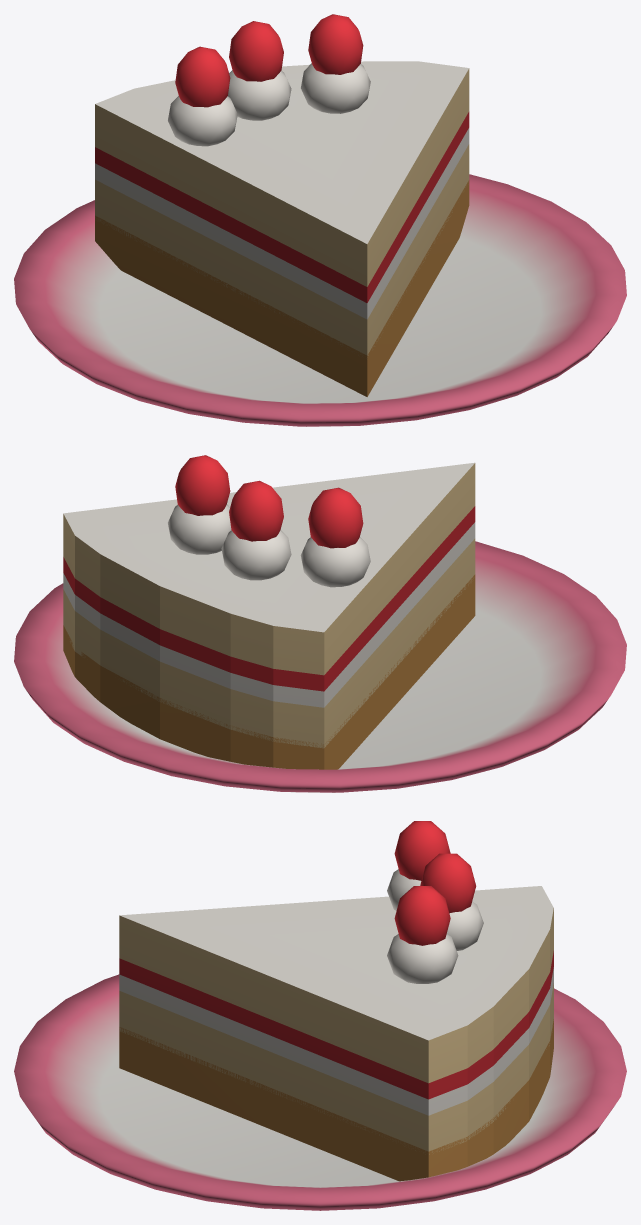
Rendered from item_dish_shortcake.glb.
3 views of the same model, one above another, from view 1: azimuth 30°, elevation 25°; view 2: azimuth 150°, elevation 25°; view 3: azimuth 270°, elevation 25° (orthographic).
Visible parts, largest first — view 1: item_dish_shortcake_main, item_dish_shortcake_gloss; view 2: item_dish_shortcake_main, item_dish_shortcake_gloss; view 3: item_dish_shortcake_main, item_dish_shortcake_gloss.
Part boxes in pixels (left/top/right/bottom): item_dish_shortcake_main: left=14, top=61, right=626, bottom=426; item_dish_shortcake_gloss: left=175, top=14, right=363, bottom=107; item_dish_shortcake_main: left=14, top=462, right=626, bottom=792; item_dish_shortcake_gloss: left=175, top=455, right=363, bottom=548; item_dish_shortcake_main: left=14, top=869, right=626, bottom=1210; item_dish_shortcake_gloss: left=394, top=821, right=476, bottom=945.
Size of the model in its own units: 0.24 by 0.114 by 0.24.
